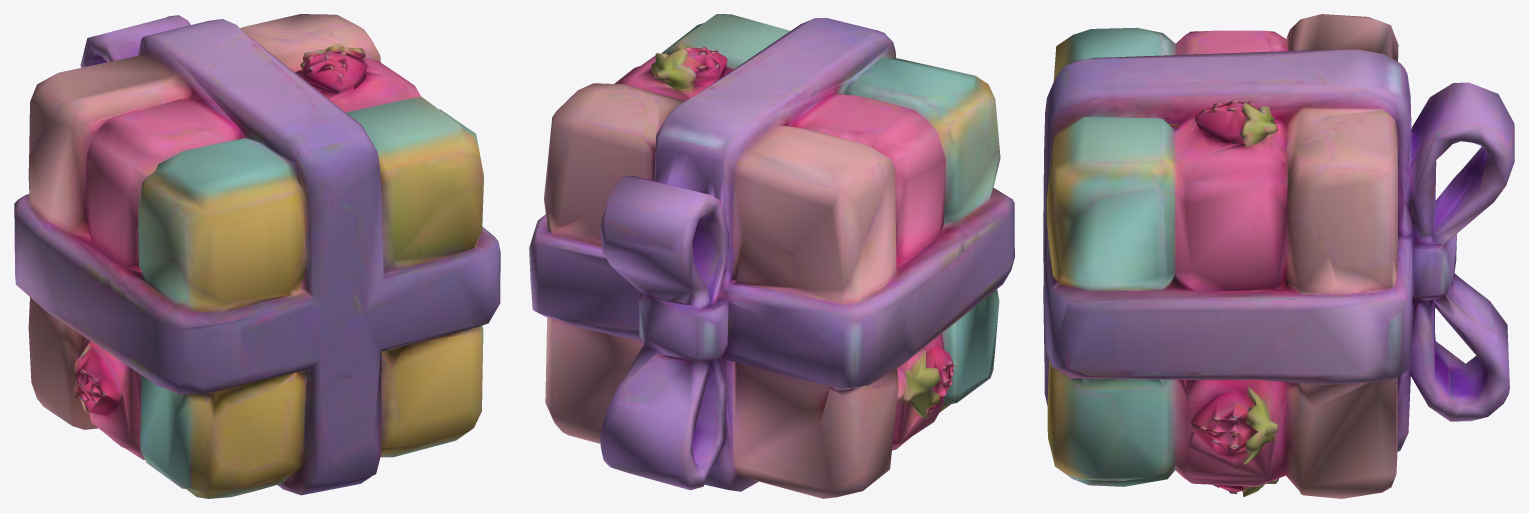
3 views of the same model, side by side, from view 1: azimuth 30°, elevation 25°; view 2: azimuth 150°, elevation 25°; view 3: azimuth 270°, elevation 25° (orthographic). The views are drawn at different scales.
Visible parts, largest first — view 1: material; view 2: material; view 3: material.
Part boxes in pixels (<box>): material: <box>14,14,500,498</box>; material: <box>529,14,1014,498</box>; material: <box>1043,14,1514,498</box>.
Bounding box in the file's own units: 0.8988 × 0.922 × 1.
1 material, 1 textured.
